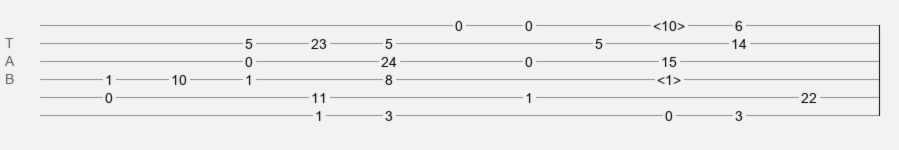0: (105, 90, 113, 100), (245, 54, 253, 64), (455, 18, 463, 28), (525, 18, 533, 28), (525, 54, 533, 64), (665, 108, 673, 118)
1: (105, 72, 113, 82), (245, 72, 253, 82), (315, 108, 323, 118), (525, 90, 533, 100)
10: (171, 72, 187, 82)
11: (311, 90, 327, 100)
14: (731, 36, 747, 46)
15: (661, 54, 677, 64)
22: (801, 90, 817, 100)
23: (311, 36, 327, 46)
24: (381, 54, 397, 64)
3: (385, 108, 393, 118), (735, 108, 743, 118)
5: (245, 36, 253, 46), (385, 36, 393, 46), (595, 36, 603, 46)
6: (735, 18, 743, 28)
8: (385, 72, 393, 82)
harmonic: (653, 18, 685, 28), (657, 72, 681, 82)
